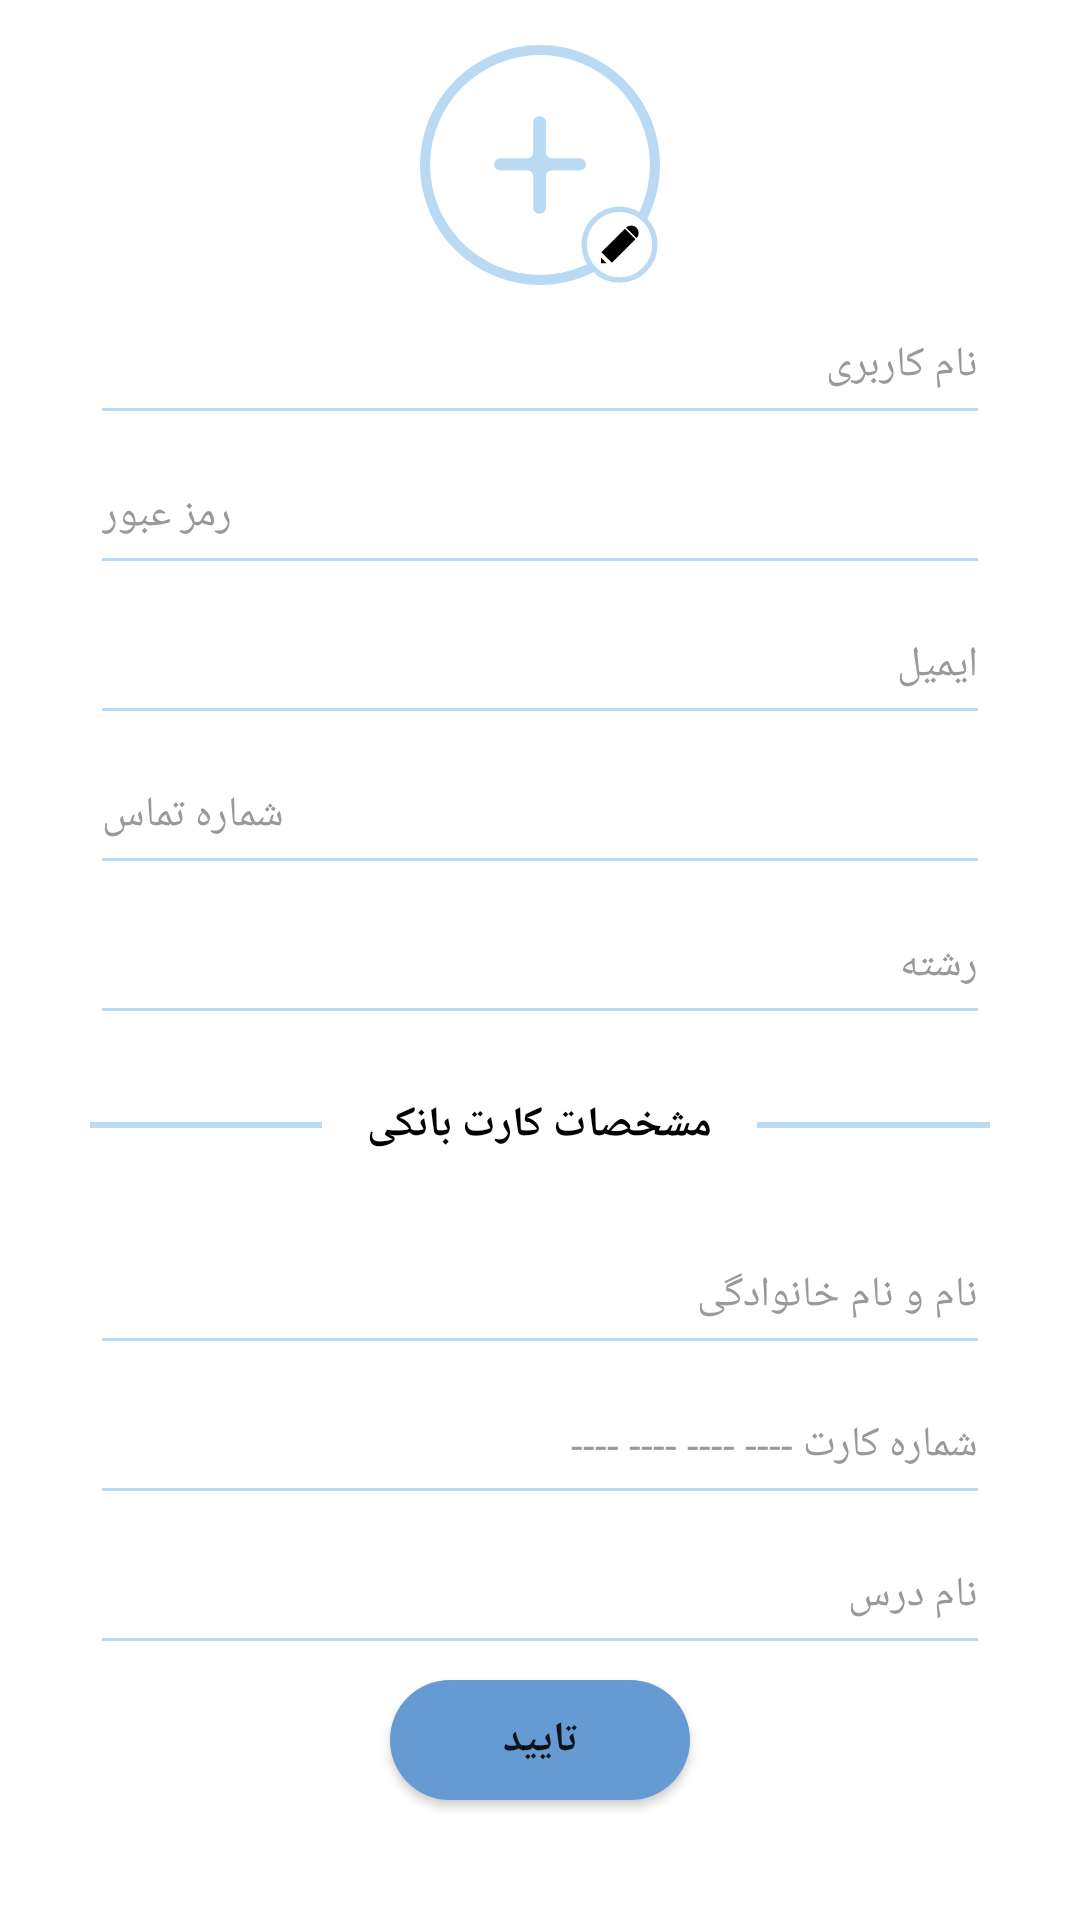

Screen size 1080×1920. Icon name, then its center in pixels as (x,y):
add edit: (540,165)
